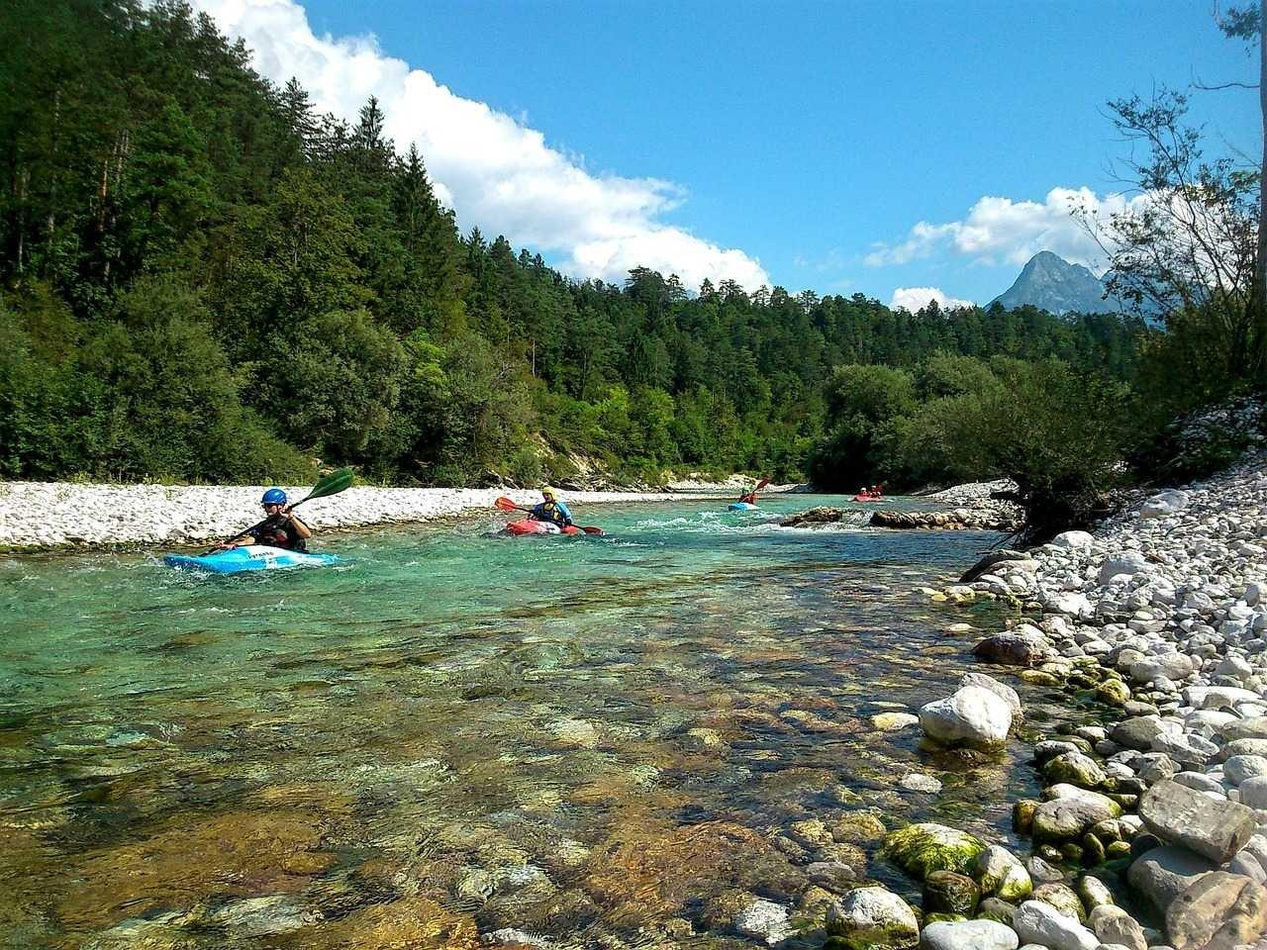kayak: (499, 517, 601, 536)
